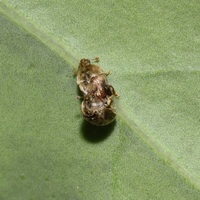insect: (74, 57, 118, 125)
